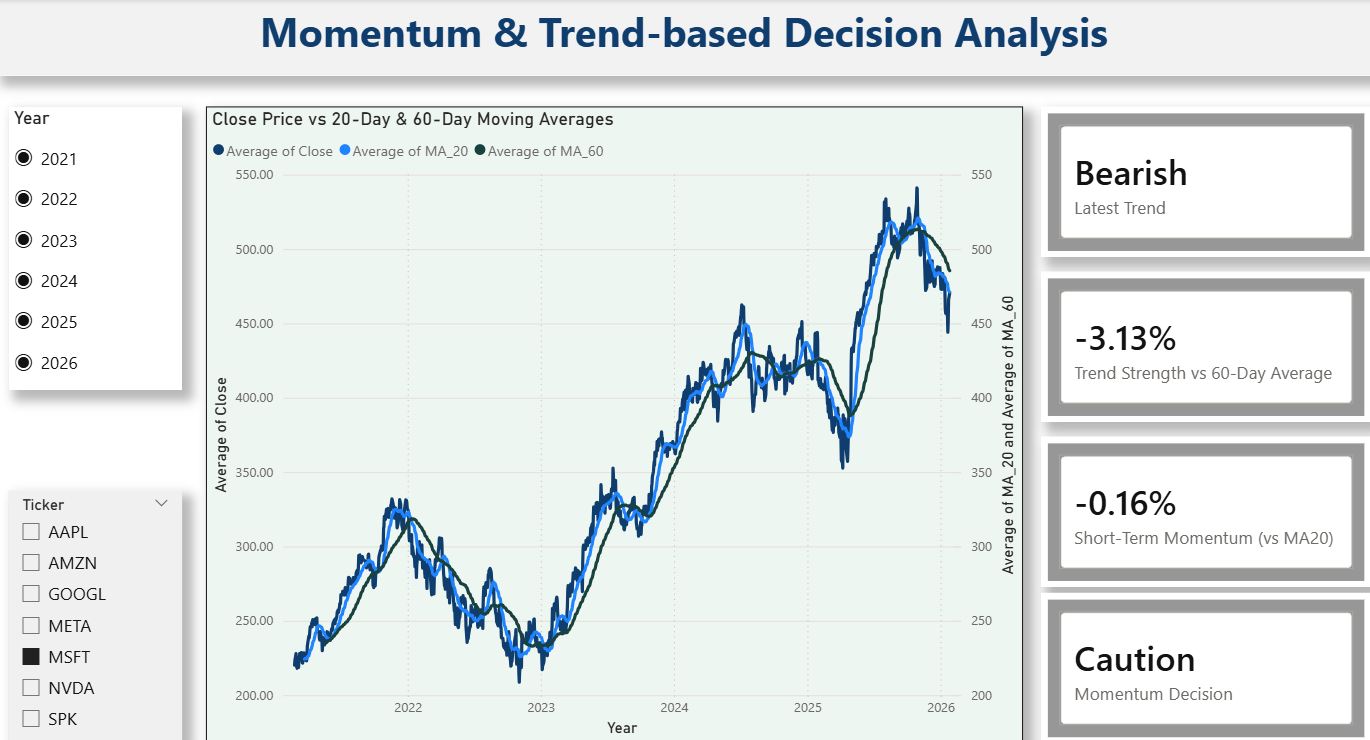

What the dashboard file says about the page in this screenshot:
{"tool":"powerbi","page":{"name":"Rolling Average Trend Analysis","canvas":[1280,720],"ordinal":2},"visuals":[{"type":"lineChart","title":"Close Price vs 20-Day & 60-Day Moving Averages","fields":{"Y":["Avg(prices_with_rolling_averages.Close)"],"Y2":["Avg(prices_with_rolling_averages.MA_20)","Avg(prices_with_rolling_averages.MA_60)"],"Category":["prices_with_rolling_averages.Date.Variation.Date Hierarchy.Year","prices_with_rolling_averages.Date.Variation.Date Hierarchy.Quarter","prices_with_rolling_averages.Date.Variation.Date Hierarchy.Month","prices_with_rolling_averages.Date.Variation.Date Hierarchy.Day"]},"box":[195,100,760,592.5],"z":0},{"type":"slicer","fields":{"Values":["fact_prices_features.Ticker"]},"box":[11.2,457.5,161.2,235],"z":1000},{"type":"listSlicer","fields":{"Values":["DateTable.Year"]},"box":[11.2,100,161.2,263.8],"z":2000},{"type":"cardVisual","fields":{"Data":["prices_with_rolling_averages.Latest Trend"]},"box":[972.5,100,307.5,140],"z":3000},{"type":"cardVisual","fields":{"Data":["_Measures.% Distance from MA60"]},"box":[972.5,253.8,307.5,140],"z":4000},{"type":"cardVisual","fields":{"Data":["_Measures.% Distance from MA20"]},"box":[972.5,407.5,307.5,140],"z":5000},{"type":"cardVisual","fields":{"Data":["_Measures.Momentum Decision"]},"box":[972.5,552.5,307.5,140],"z":6000},{"type":"textbox","box":[0,0,1280,71.2],"z":7000}]}

Visuals, with their boxes on the page's 1280x720 design canvas (x1, y1, x2, y2). These are canvas units, not pixel positions in the 1370x740 screenshot, which may show the page scaled, cropped or inside an application window:
"Close Price vs 20-Day & 60-Day Moving Averages" lineChart: (left=195, top=100, right=955, bottom=692)
slicer - fact_prices_features.Ticker: (left=11, top=458, right=172, bottom=692)
listSlicer - DateTable.Year: (left=11, top=100, right=172, bottom=364)
cardVisual - prices_with_rolling_averages.Latest Trend: (left=972, top=100, right=1280, bottom=240)
cardVisual - _Measures.% Distance from MA60: (left=972, top=254, right=1280, bottom=394)
cardVisual - _Measures.% Distance from MA20: (left=972, top=408, right=1280, bottom=548)
cardVisual - _Measures.Momentum Decision: (left=972, top=552, right=1280, bottom=692)
textbox: (left=0, top=0, right=1280, bottom=71)
